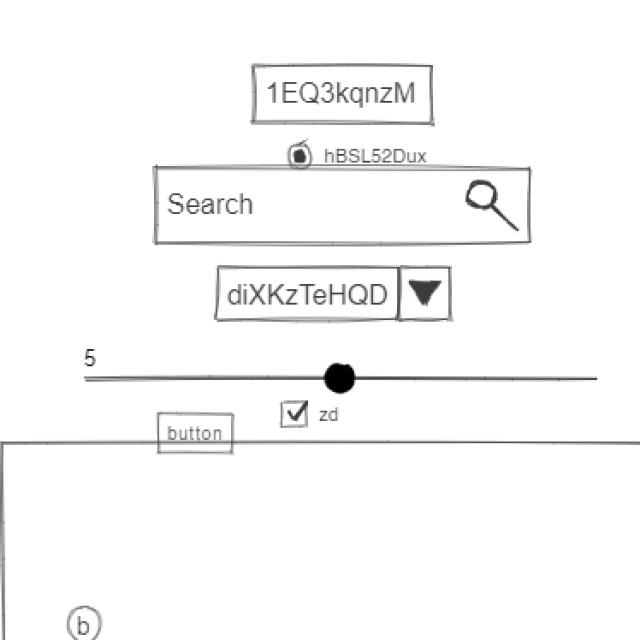button: (252, 60, 440, 130), (158, 407, 240, 459)
checkbox: (277, 399, 347, 430)
container: (1, 437, 640, 640)
icon-button: (64, 603, 104, 640)
radio: (288, 140, 430, 172)
search: (151, 162, 537, 250)
select: (214, 260, 458, 329)
slider: (106, 361, 603, 397)
